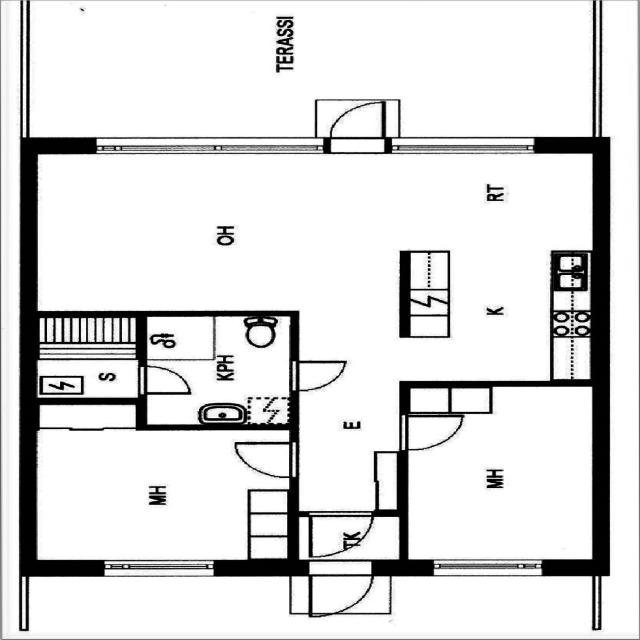door: (302, 565, 382, 619), (326, 99, 397, 146), (228, 440, 300, 480), (395, 412, 465, 452), (281, 357, 347, 395), (129, 360, 192, 393)
window: (98, 136, 318, 163), (384, 133, 547, 163), (82, 552, 224, 583), (419, 554, 554, 582), (24, 341, 142, 358)
zone: (28, 424, 298, 566), (400, 384, 602, 564), (399, 248, 594, 382), (137, 312, 297, 428), (27, 348, 143, 400), (299, 511, 392, 561)
